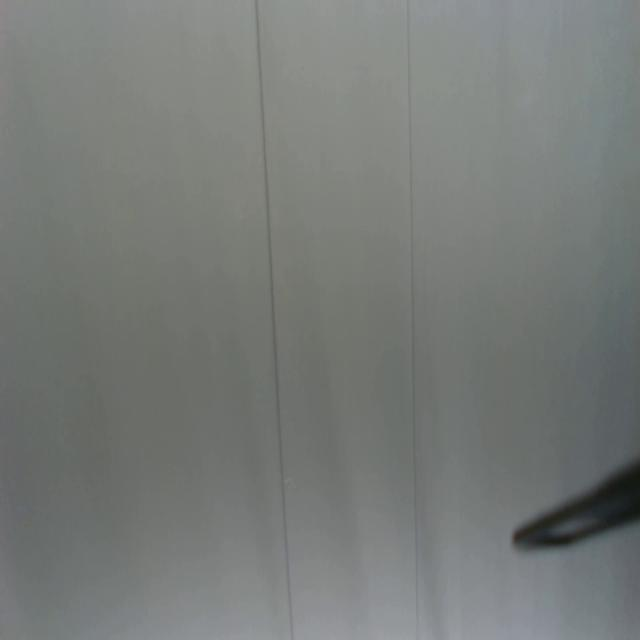crease: (253, 0, 298, 640), (404, 2, 420, 638)
